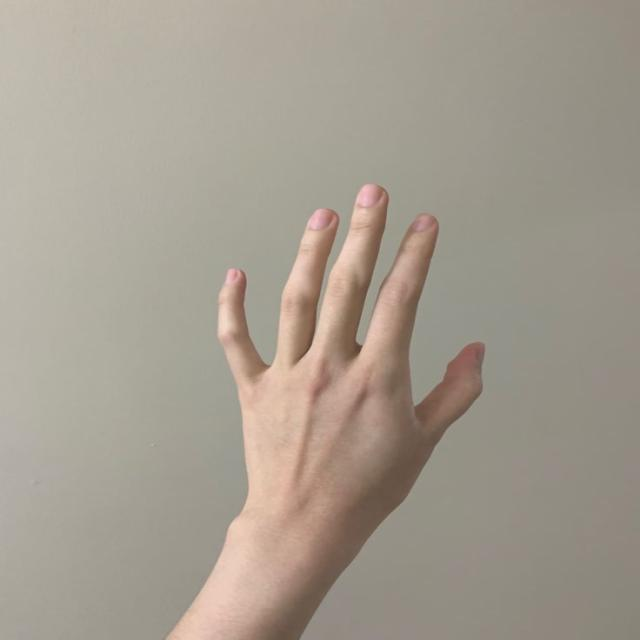no-gloves: (219, 183, 486, 560)
